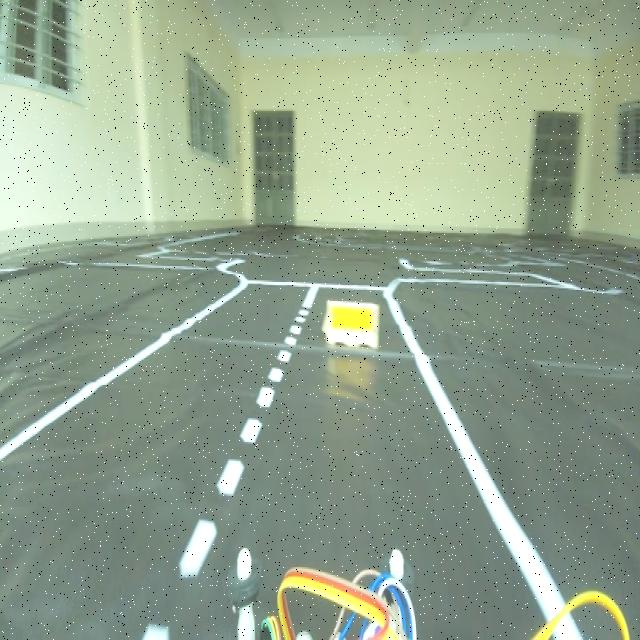roadblock: (317, 292, 388, 367)
